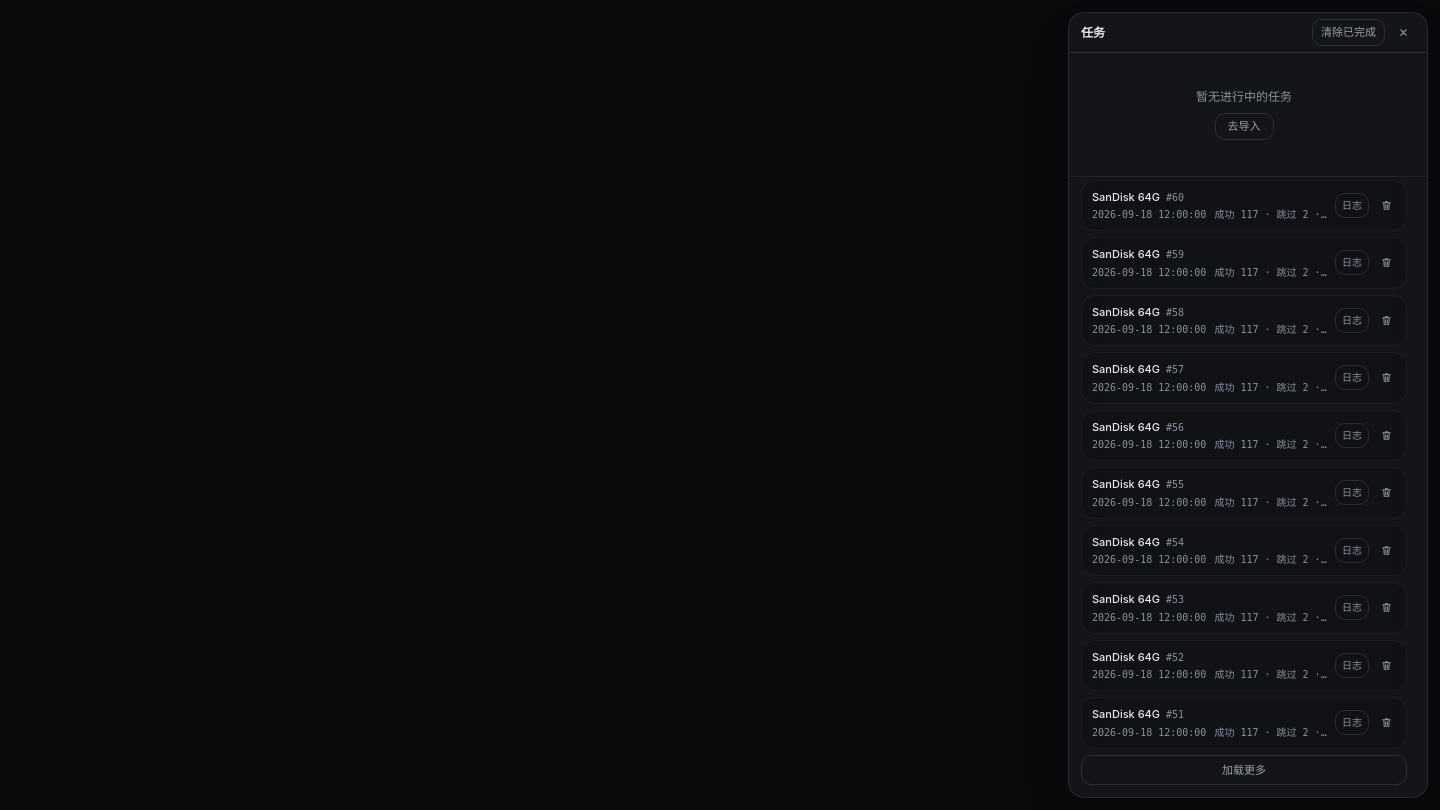
it: 任务抽屉：历史区 › 加载更多：afterId=最后一行 id；短页隐藏按钮
This screenshot has width=1440, height=810.
(page scrolled)
Step 1. Click the button with test id "taskdrawer-history-more" → (1244, 770), box left=1081, top=754, right=1407, bottom=785
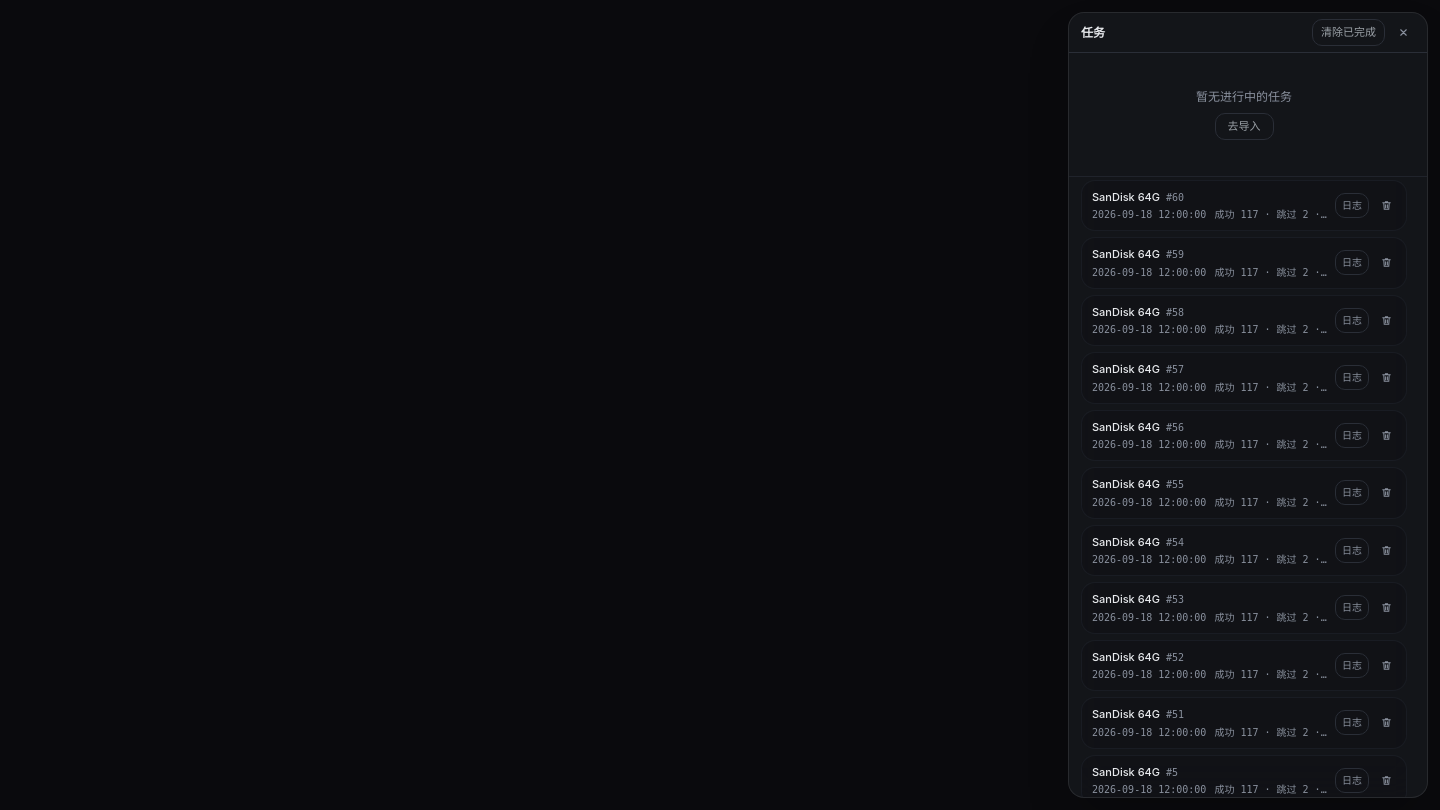
expect the button with test id "taskdrawer-history-more" is gone: met
